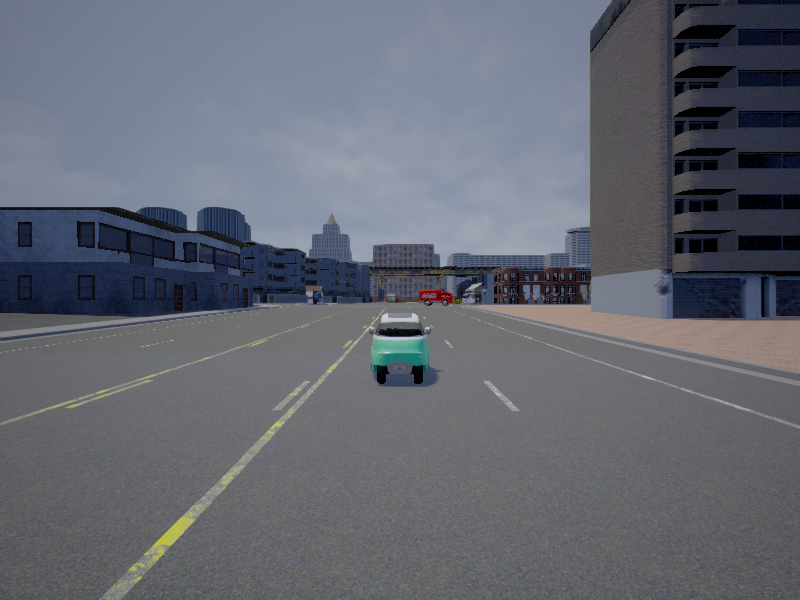Benign: (368, 313, 430, 386), (419, 291, 454, 306)
